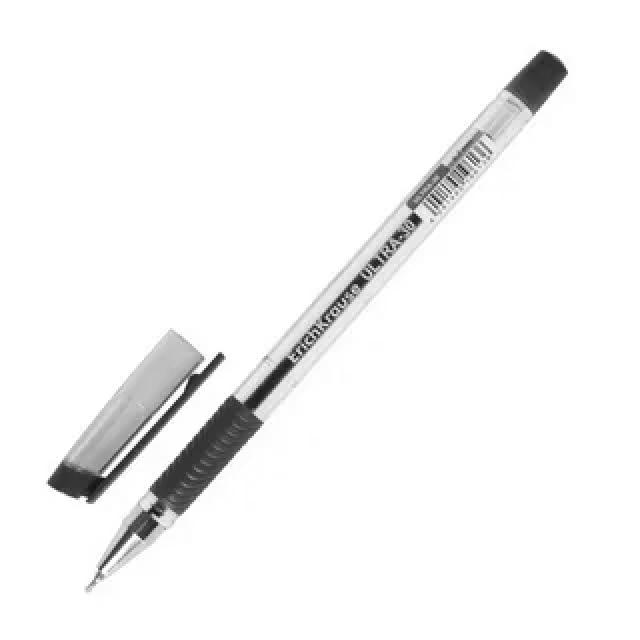pen: (46, 51, 570, 593)
